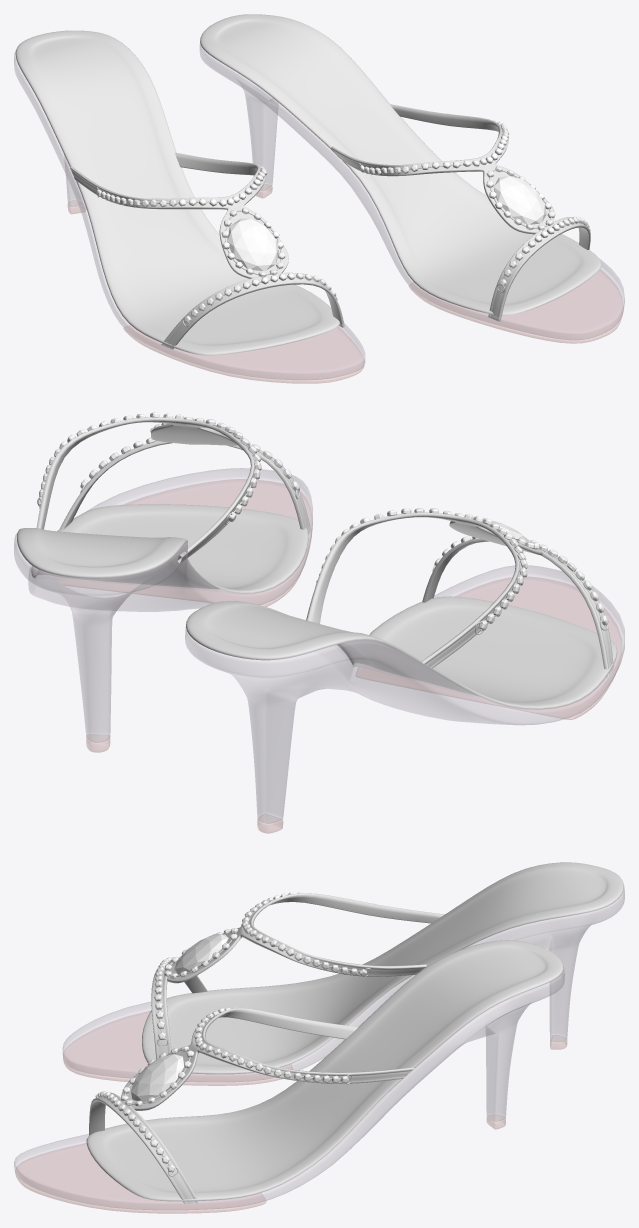
Rendered from women.glb.
3 views of the same model, one above another, from view 1: azimuth 30°, elevation 25°; view 2: azimuth 150°, elevation 25°; view 3: azimuth 270°, elevation 25° (orthographic). The views are drawn at different scales.
Visible parts, largest first — view 1: arch49_045_obj_07, arch49_045_obj_02, arch49_045_obj_00, arch49_045_obj_09, arch49_045_obj_08, arch49_045_obj_01, arch49_045_obj_06, arch49_045_obj_04; view 2: arch49_045_obj_07, arch49_045_obj_02, arch49_045_obj_09, arch49_045_obj_00, arch49_045_obj_01, arch49_045_obj_08, arch49_045_obj_06, arch49_045_obj_04; view 3: arch49_045_obj_02, arch49_045_obj_07, arch49_045_obj_00, arch49_045_obj_09, arch49_045_obj_01, arch49_045_obj_08, arch49_045_obj_04, arch49_045_obj_06.
Boxes of the visible parts, x1,y1,x2,y2 form: arch49_045_obj_07: (15, 30, 344, 355); arch49_045_obj_02: (200, 14, 601, 321); arch49_045_obj_00: (200, 43, 624, 339); arch49_045_obj_09: (14, 50, 364, 379); arch49_045_obj_08: (68, 201, 364, 383); arch49_045_obj_01: (255, 184, 623, 343); arch49_045_obj_06: (96, 165, 336, 323); arch49_045_obj_04: (359, 119, 590, 286); arch49_045_obj_07: (186, 512, 617, 709); arch49_045_obj_02: (17, 417, 311, 593); arch49_045_obj_09: (185, 565, 624, 823); arch49_045_obj_00: (14, 468, 312, 742); arch49_045_obj_01: (57, 479, 311, 752); arch49_045_obj_08: (257, 577, 621, 833); arch49_045_obj_06: (316, 508, 608, 630); arch49_045_obj_04: (37, 412, 299, 521); arch49_045_obj_02: (86, 940, 563, 1203); arch49_045_obj_07: (142, 862, 623, 1074); arch49_045_obj_00: (14, 966, 564, 1209); arch49_045_obj_09: (63, 886, 624, 1081); arch49_045_obj_01: (15, 1114, 505, 1213); arch49_045_obj_08: (63, 1011, 566, 1085); arch49_045_obj_04: (95, 1007, 348, 1172); arch49_045_obj_06: (154, 892, 367, 1039).
Bounding box in the file's own units: 0.2168 × 0.0763 × 0.2618.
